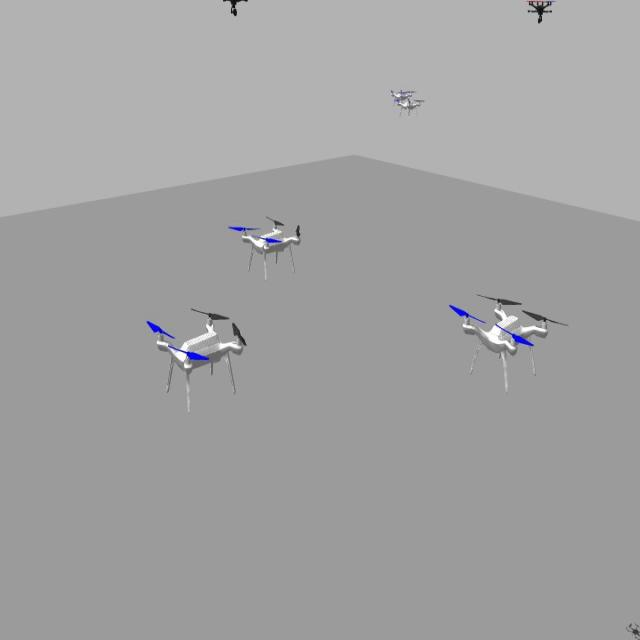Drone: (145, 298, 252, 418)
